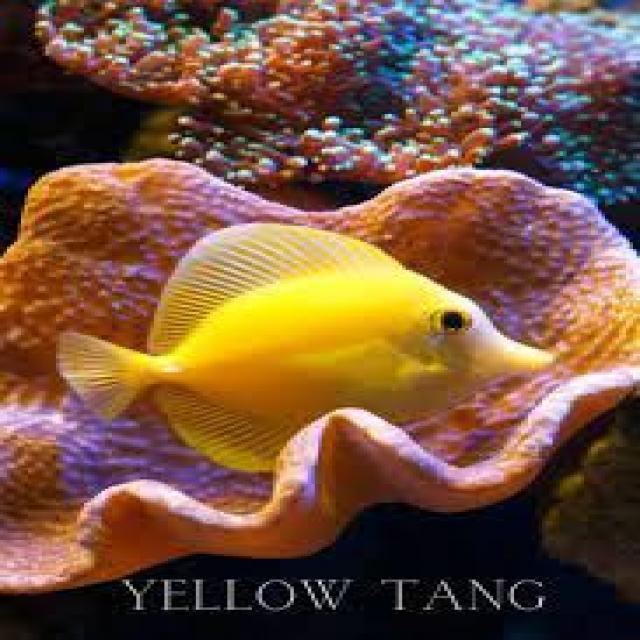YellowTang: (29, 208, 567, 461)
